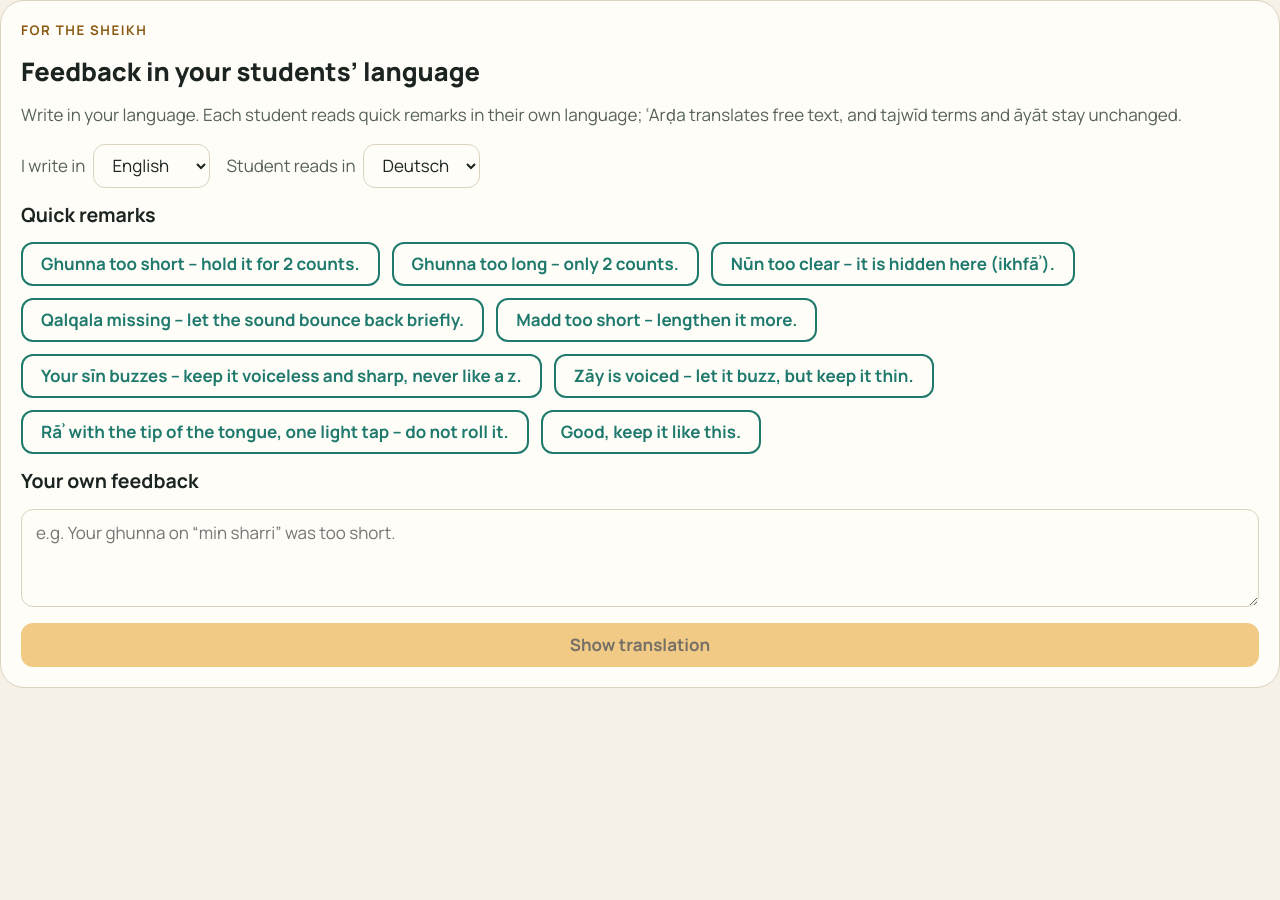
FeedbackComposer (ADR-0020) › translates written feedback, labels it as machine-translated and keeps the original
Select "Deutsch" in the dropdown labelled "Student reads in". click: (422, 166)
box: [364,144,480,188]
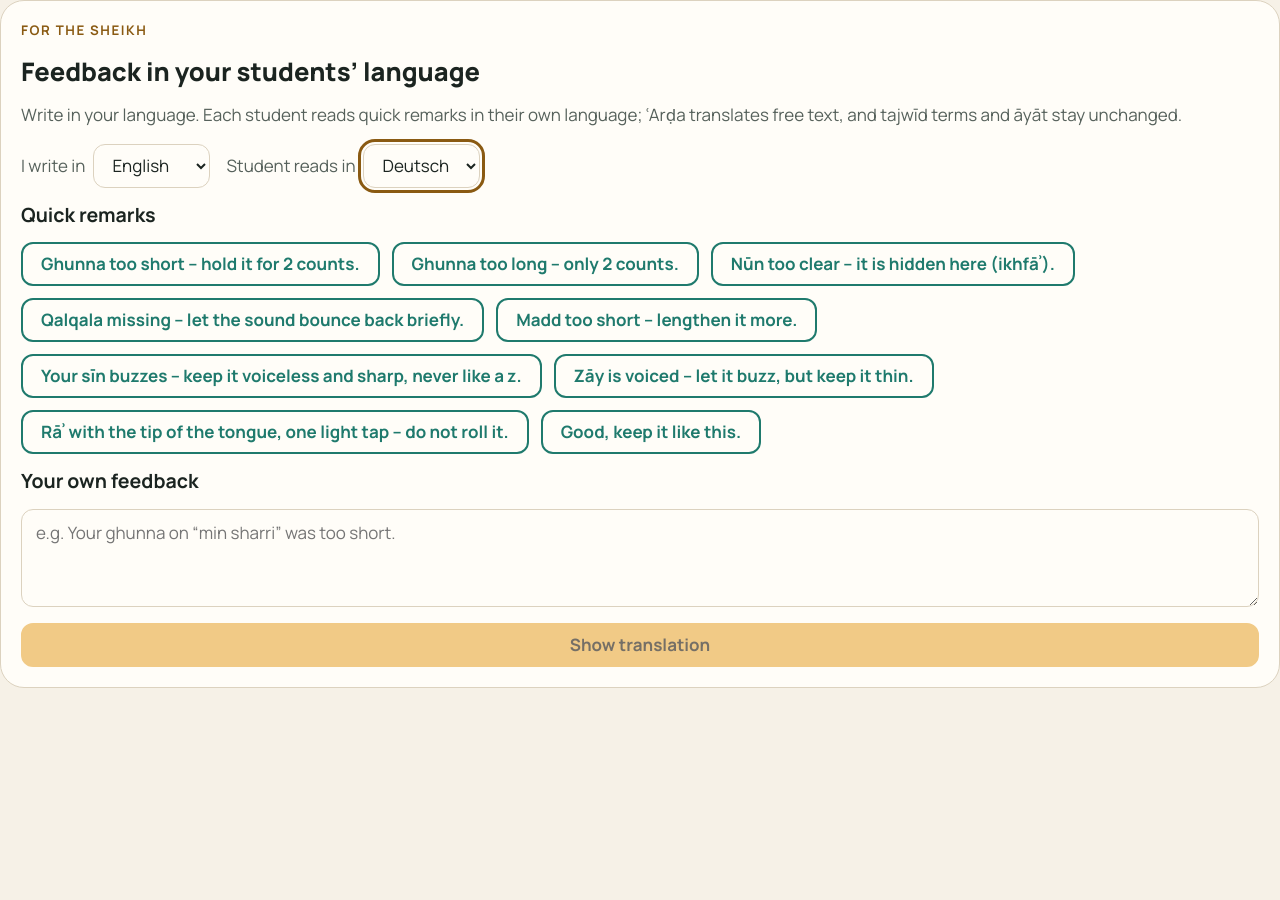
Type "Your ghunna on “min sharri” was too short." into the text box named "Your own feedback". click: (640, 558)
box: [21,509,1259,607]
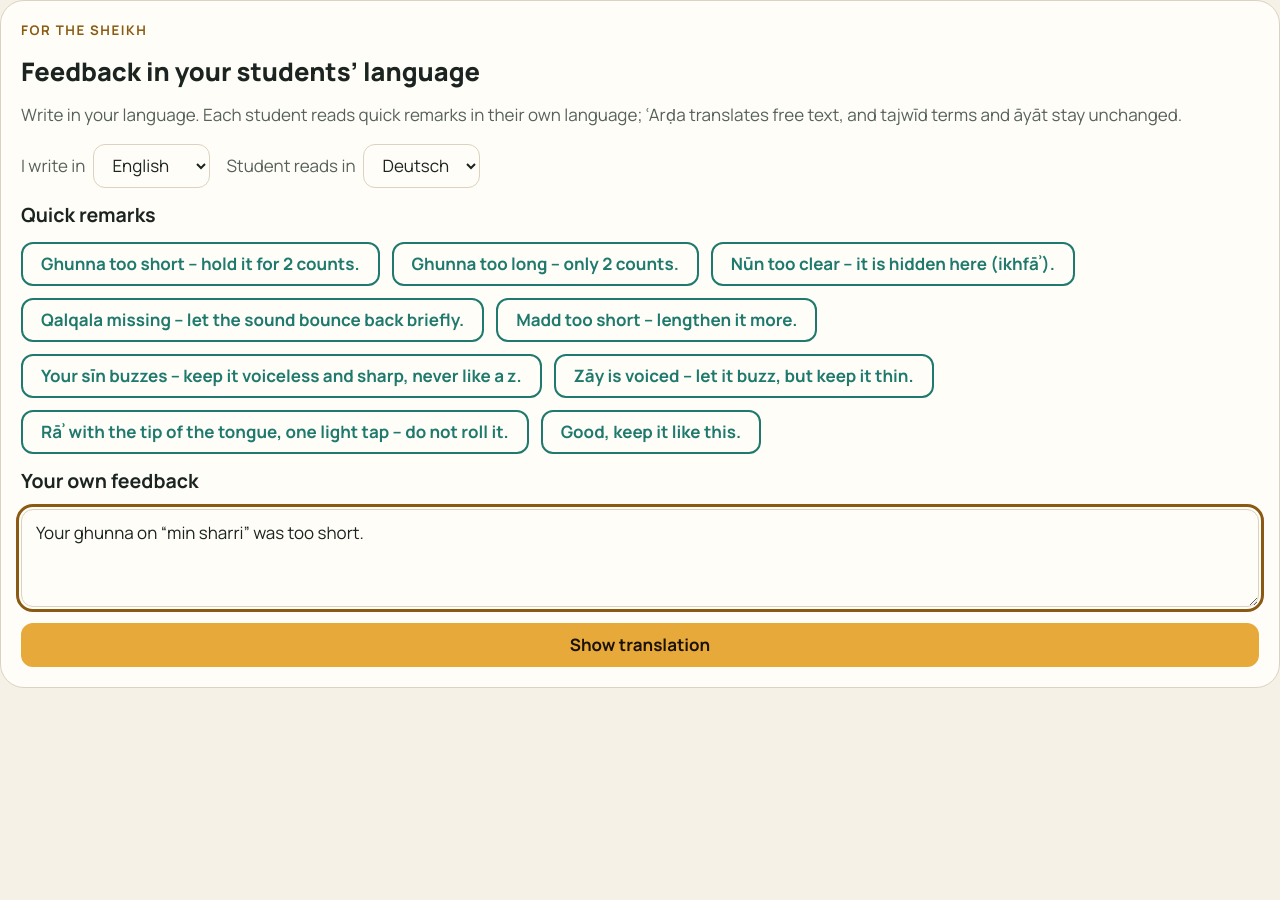
Click the button "Show translation". click: click(640, 645)
box: [21,623,1259,667]
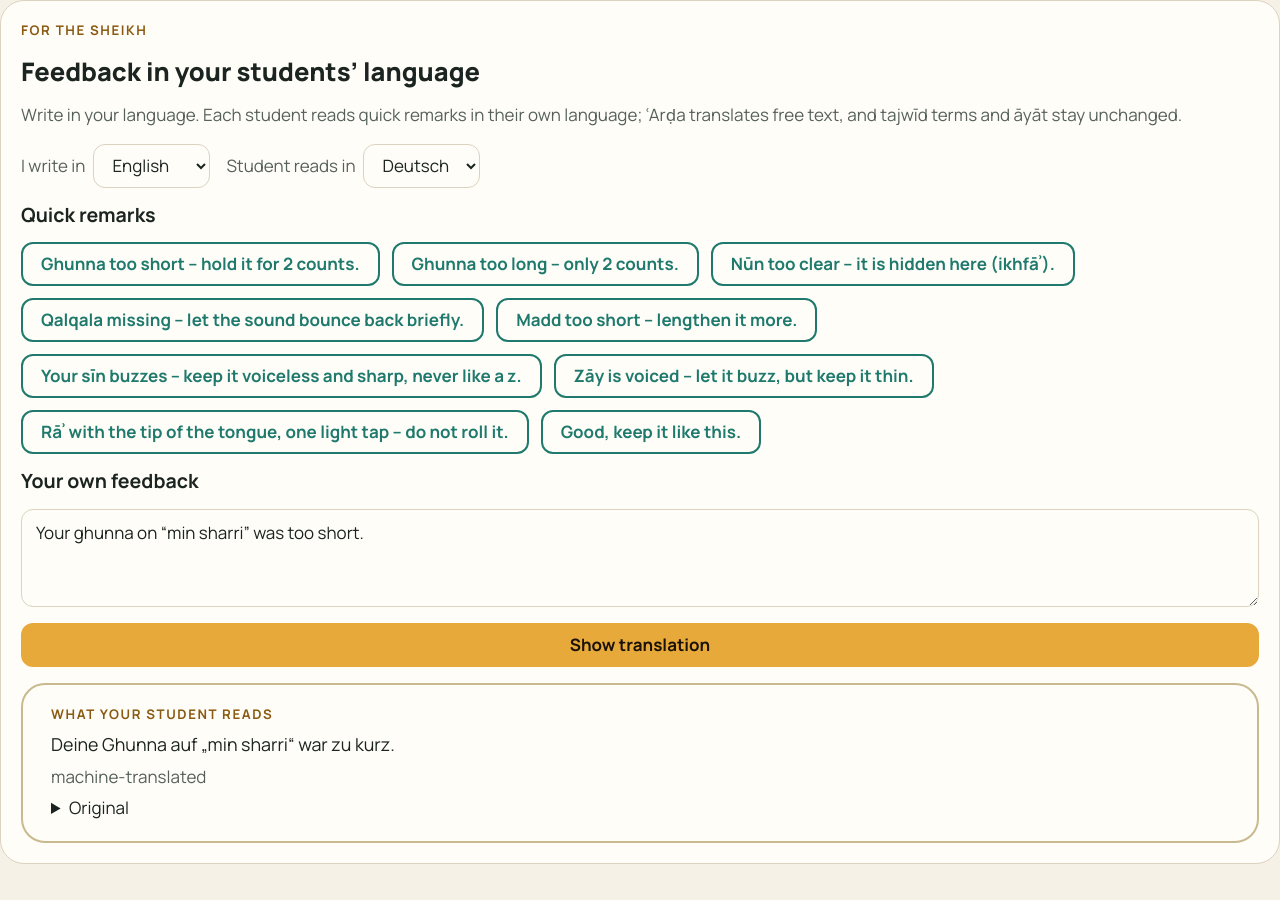
Check: the text "Deine Ghunna auf „min sharri“ war zu kurz." is shown, box [51,732,395,756]
Check: the text "machine-translated" is shown, box [51,765,206,788]
